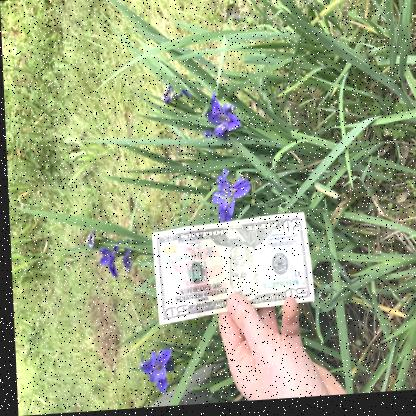fifty-front: (149, 212, 316, 326)
